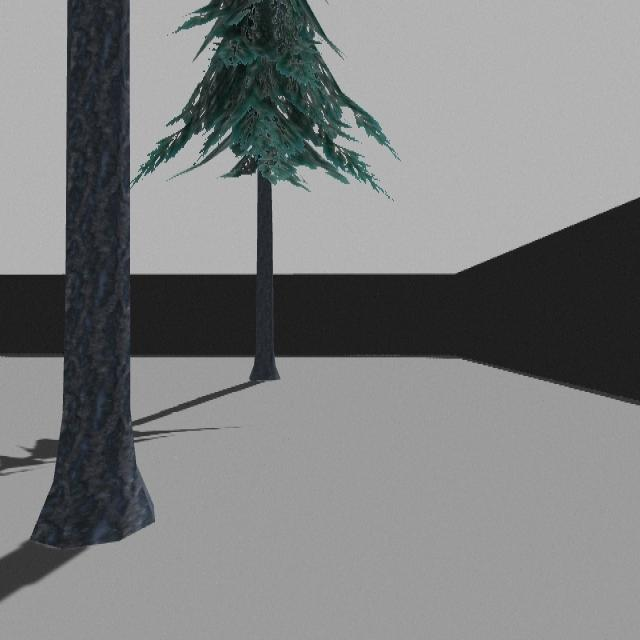tree: (133, 0, 401, 383), (30, 0, 154, 545)
